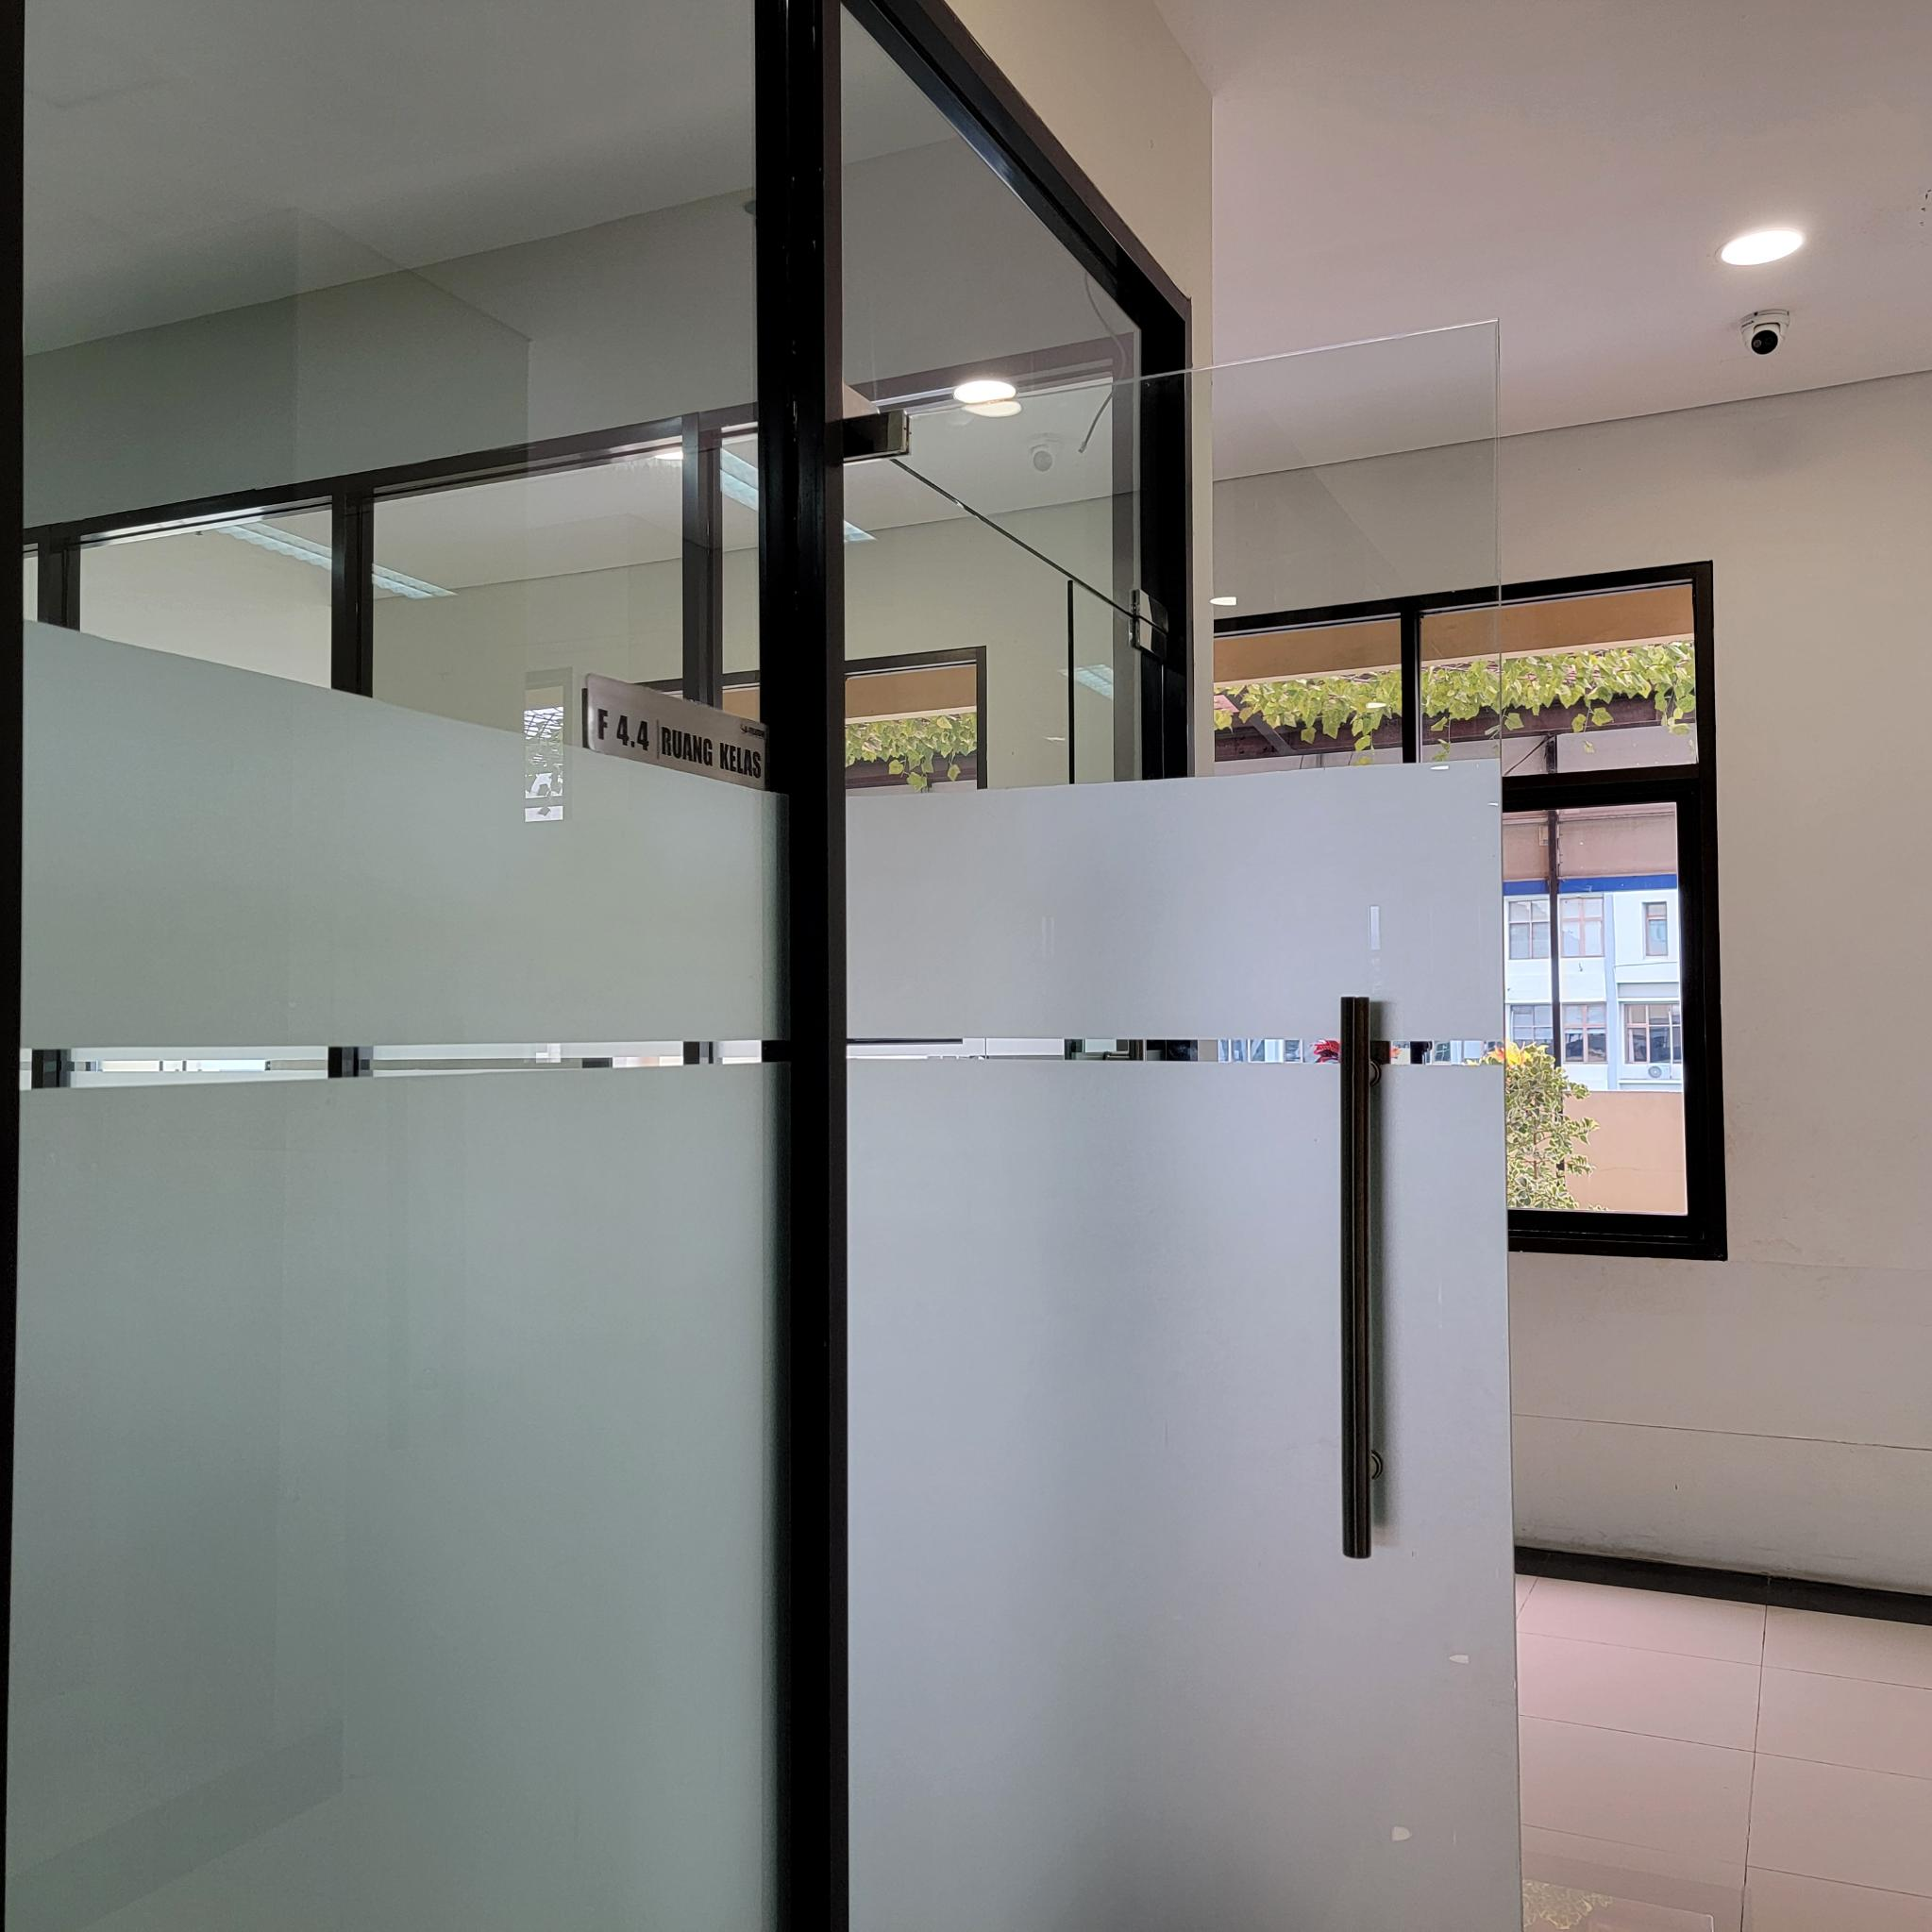plate: (584, 672, 777, 794)
